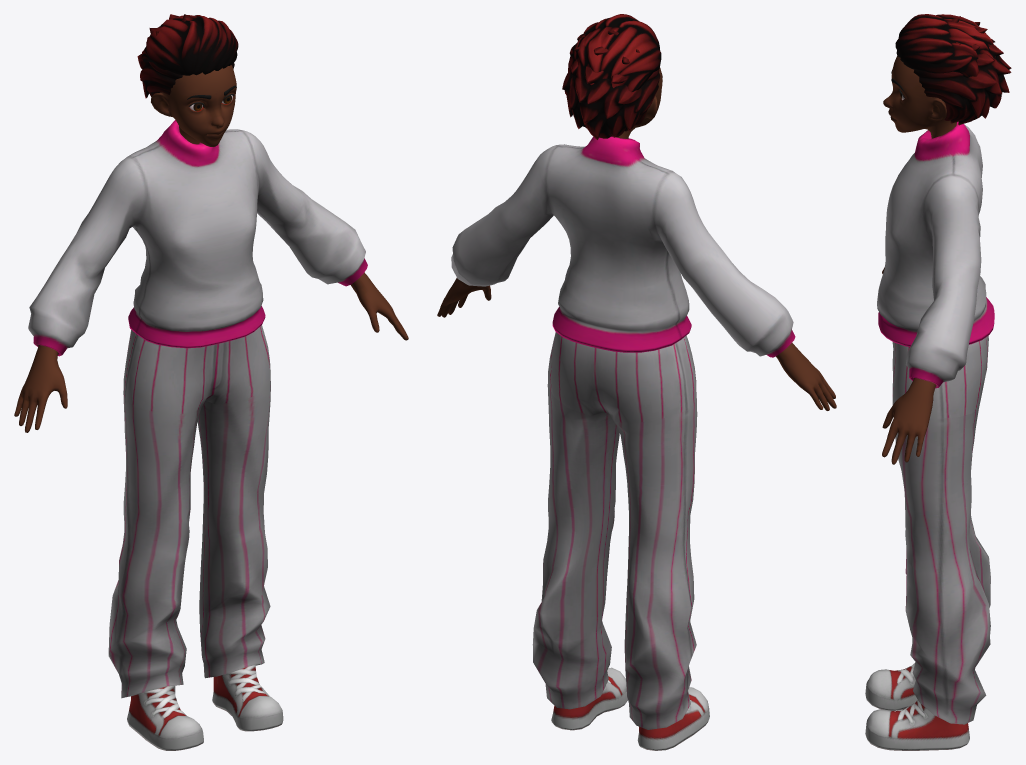
The model's file is Nadia_Mesh.obj.
3 views of the same model, side by side, from view 1: azimuth 30°, elevation 25°; view 2: azimuth 150°, elevation 25°; view 3: azimuth 270°, elevation 25° (orthographic).
Visible parts, largest first — view 1: Nadia_Mesh_0; view 2: Nadia_Mesh_0; view 3: Nadia_Mesh_0.
Boxes of the visible parts, <box> form: Nadia_Mesh_0: <box>14,14,408,750</box>; Nadia_Mesh_0: <box>437,14,836,750</box>; Nadia_Mesh_0: <box>865,14,1011,750</box>.
Bounding box in the file's own units: 1.06 × 1.84 × 0.3456.
Materials: 1 (1 with a texture image).
